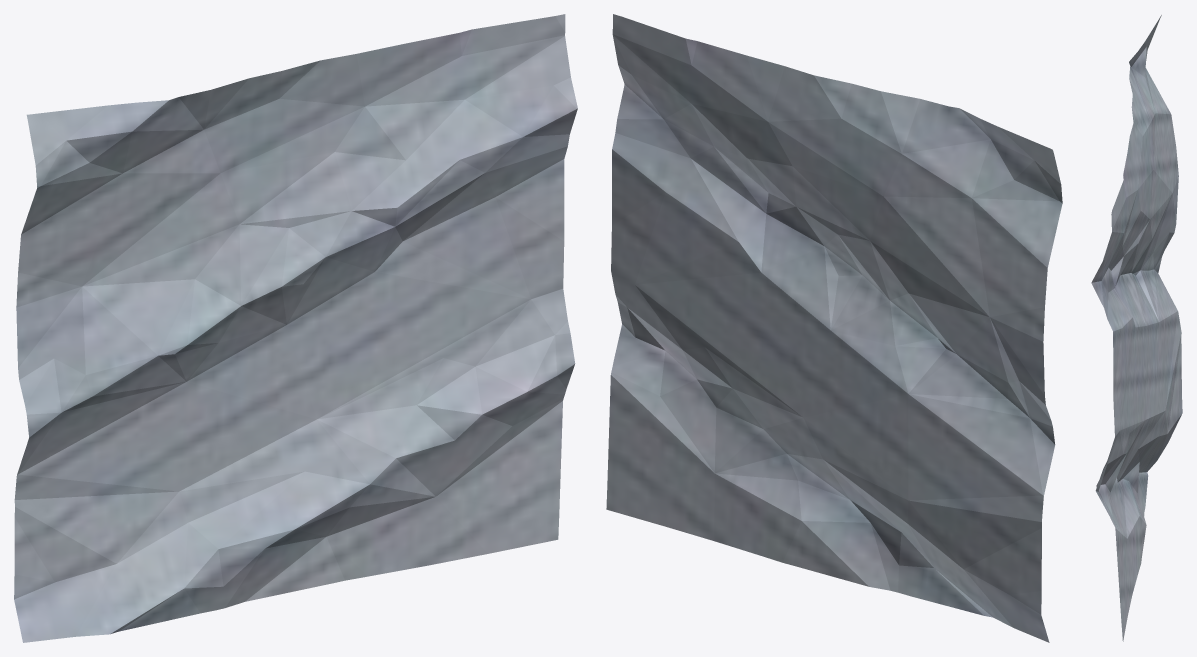
Rendered from Tile_+004_+006_L24_0033200.obj.
The picture shows the model from 3 angles, left to right: view 1: azimuth 30°, elevation 25°; view 2: azimuth 150°, elevation 25°; view 3: azimuth 270°, elevation 25°; orthographic projection. The views are drawn at different scales.
Bounding box in the file's own units: 0.9531 × 0.9531 × 0.1838.
Materials: 1 (1 with a texture image).
